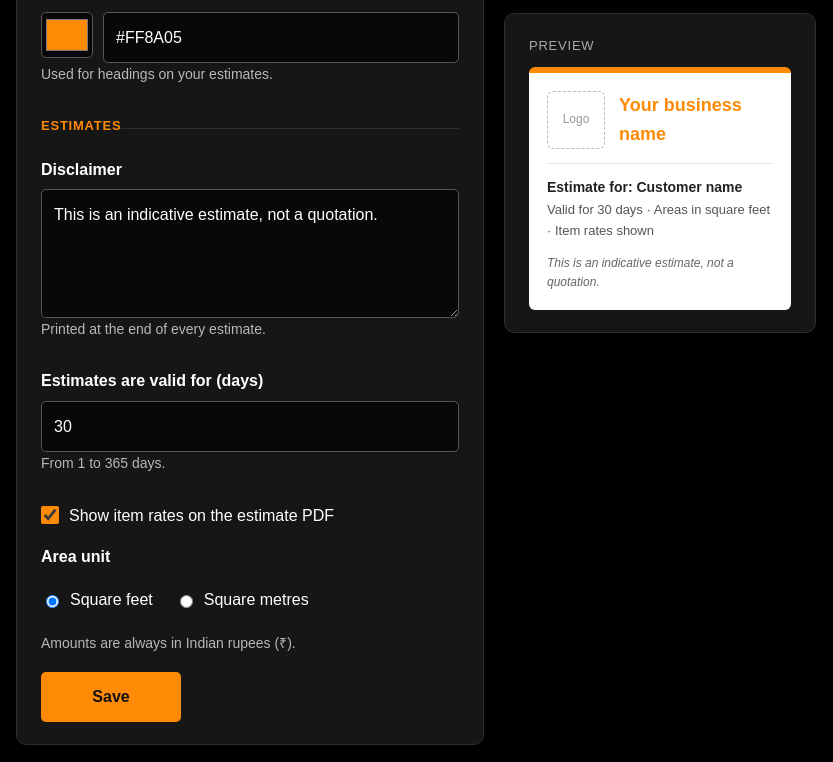
Test: Settings › Business profile (#30) › shows the server's field errors next to the fields
(page scrolled)
Click the button "Save": click(111, 697) x1=41 y1=672 x2=181 y2=722
(page scrolled)
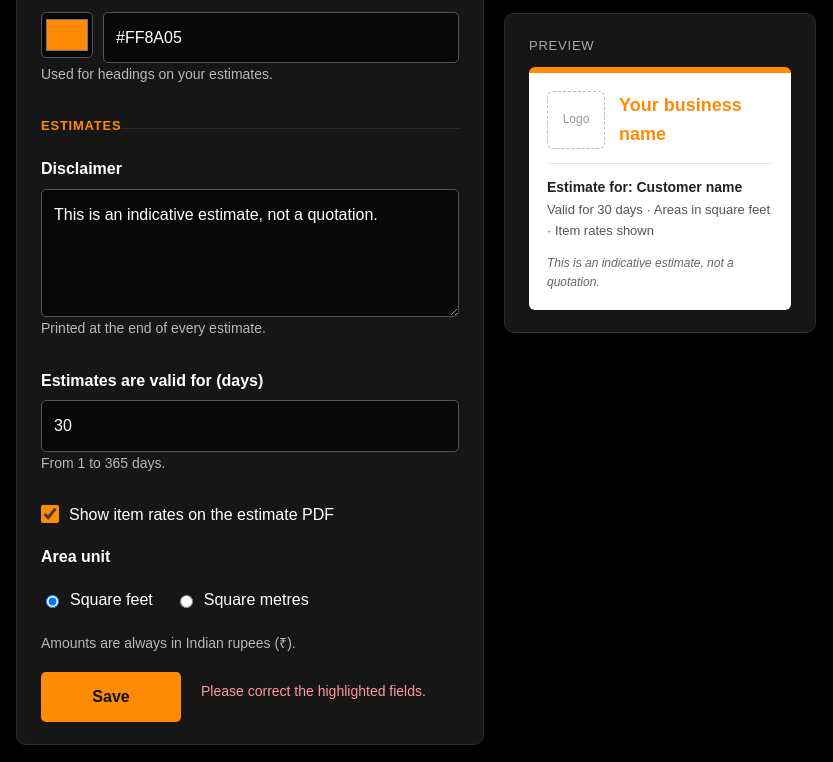
Expected: the message reads "Please correct the highlighted fields.", x1=201 y1=682 x2=426 y2=698
